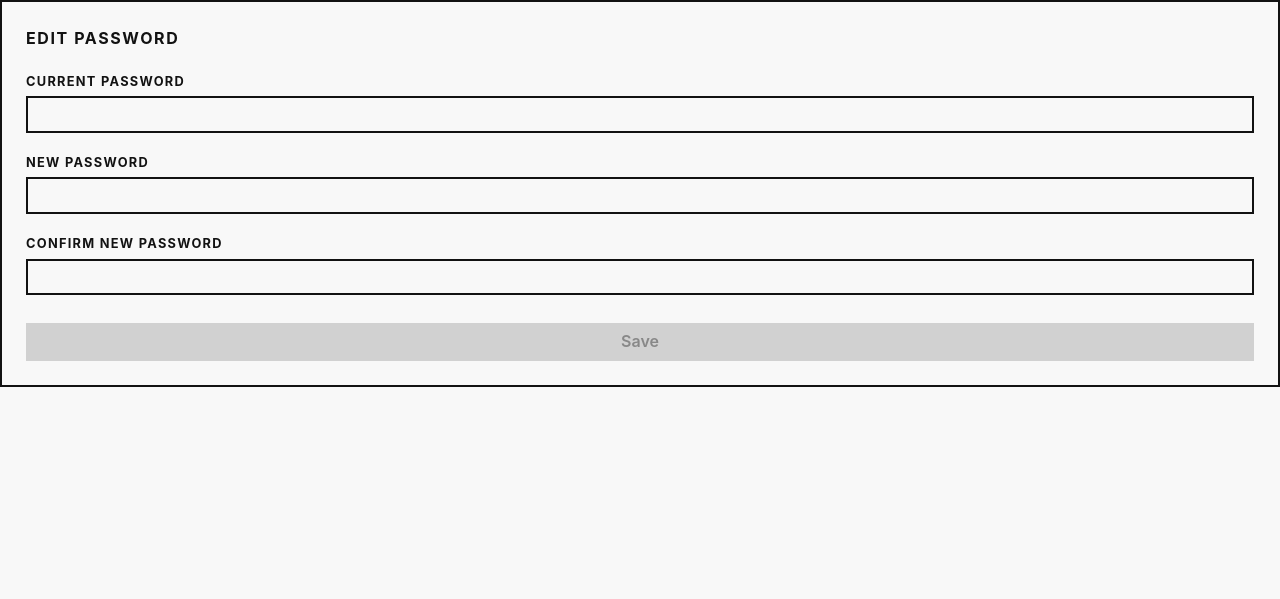
renders password requirements when new password confirm is not empty
Type "blah" into the password field named "newPasswordConfirm" at (640, 277), box [26,259,1254,295]
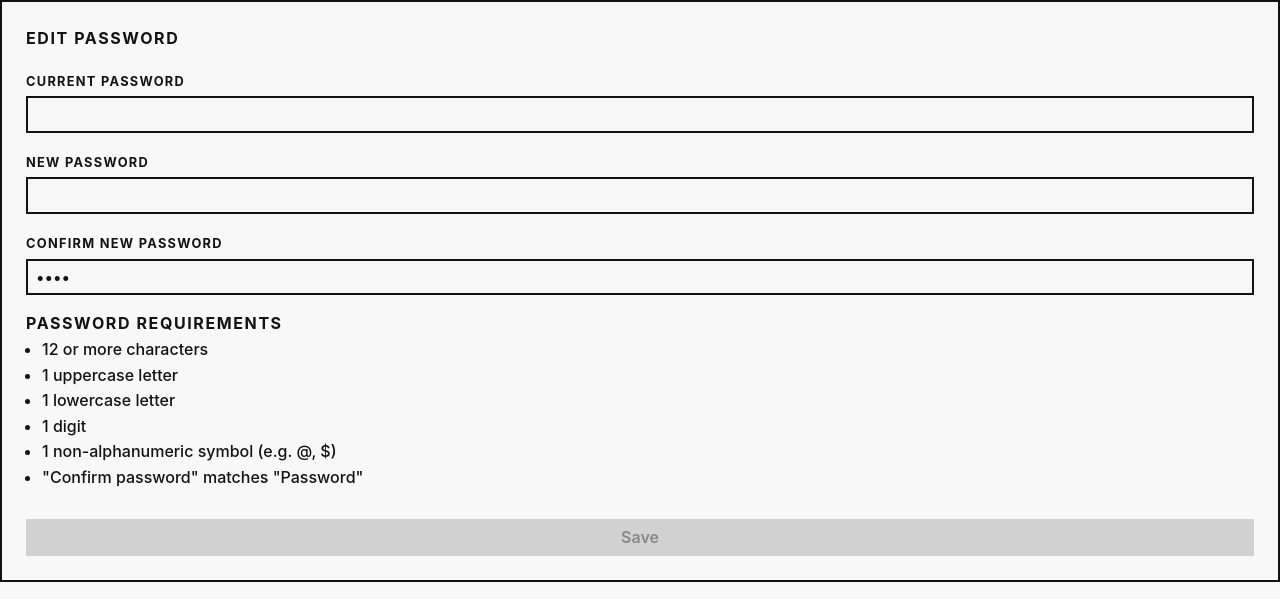
Expected: the element that starts with "Password requirements" is shown, [26,313,364,487]
